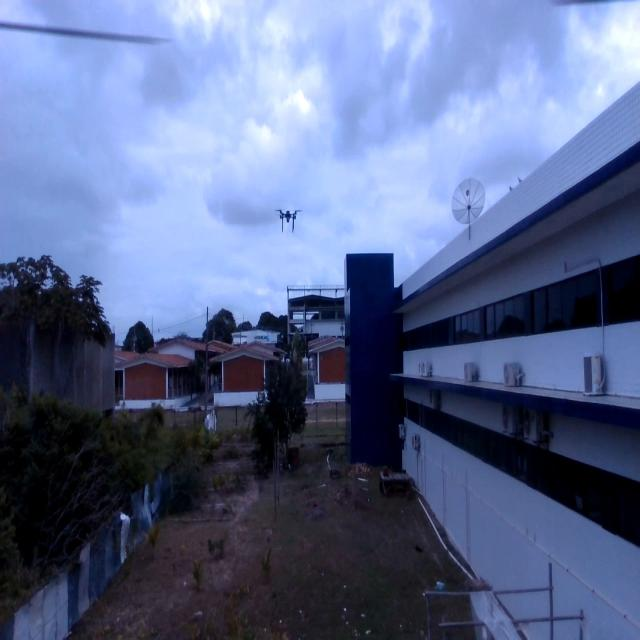-uav-: (274, 200, 308, 255)
